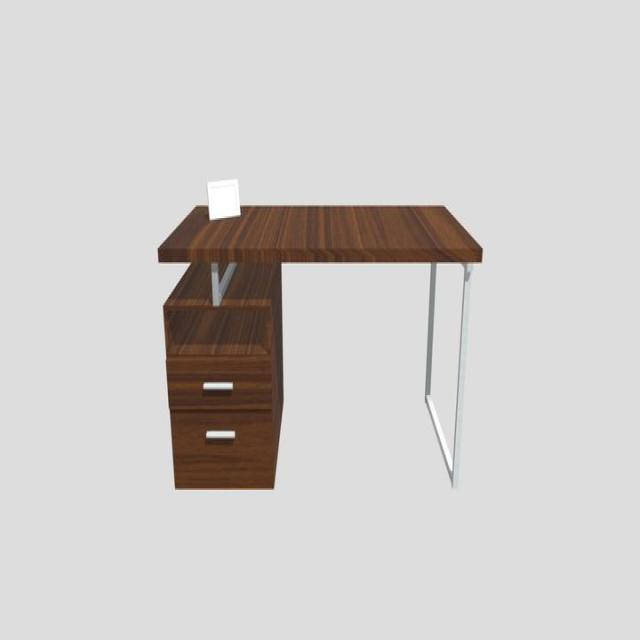table: (154, 202, 483, 490)
